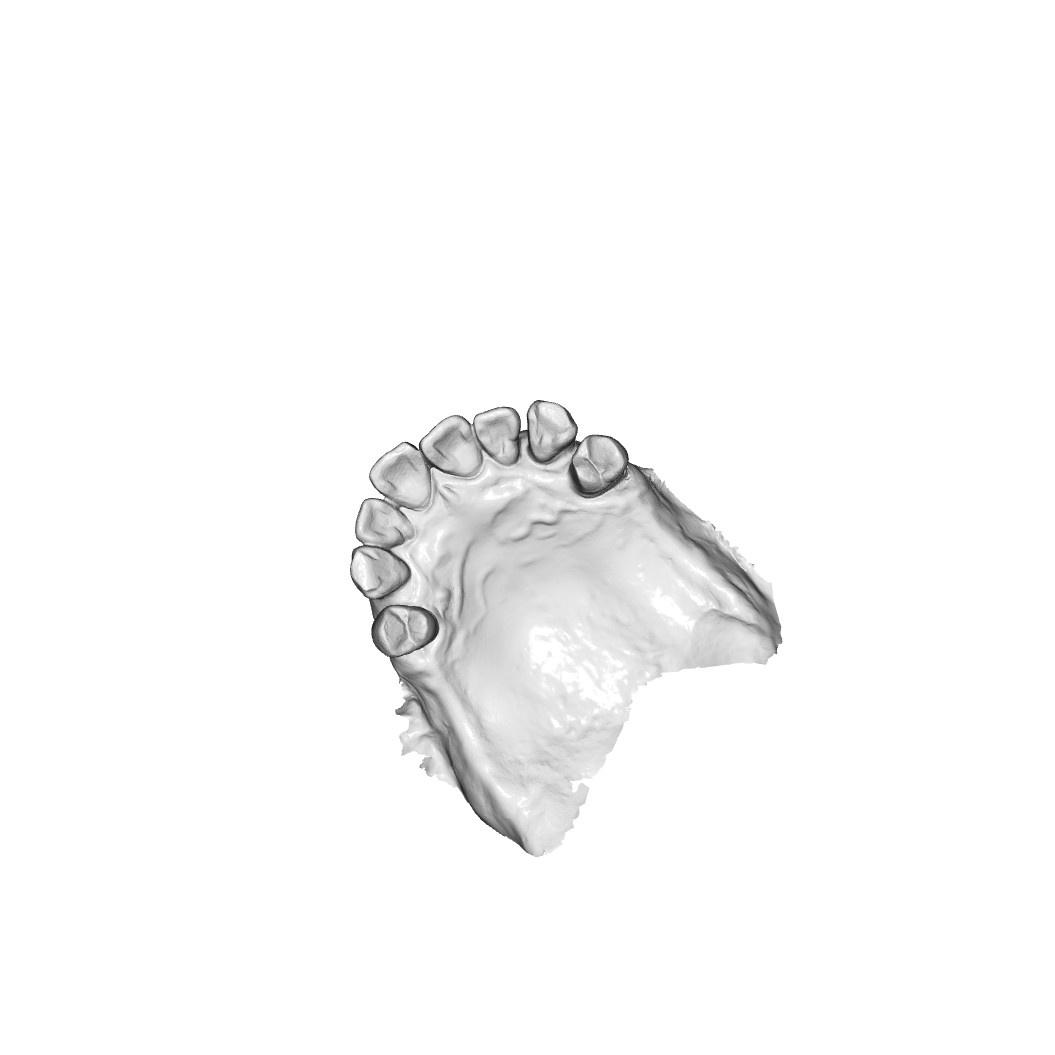canine: (524, 400, 579, 463), (349, 548, 412, 598)
incisor: (369, 442, 434, 501), (422, 419, 485, 479), (356, 497, 410, 547), (476, 407, 518, 458)
premolar: (571, 434, 630, 497), (373, 602, 438, 658)
